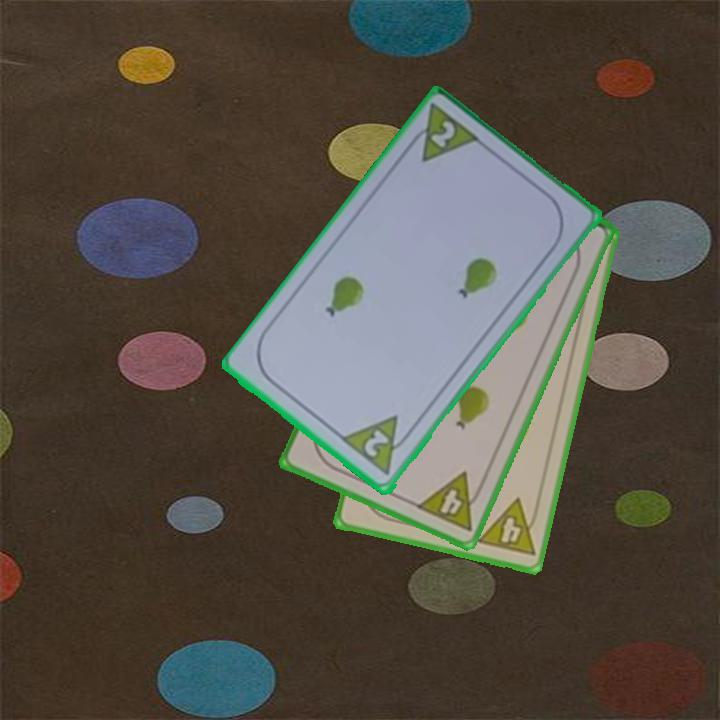2p: (401, 101, 484, 166), (339, 412, 417, 480)
4p: (412, 468, 489, 535), (473, 495, 543, 560)
